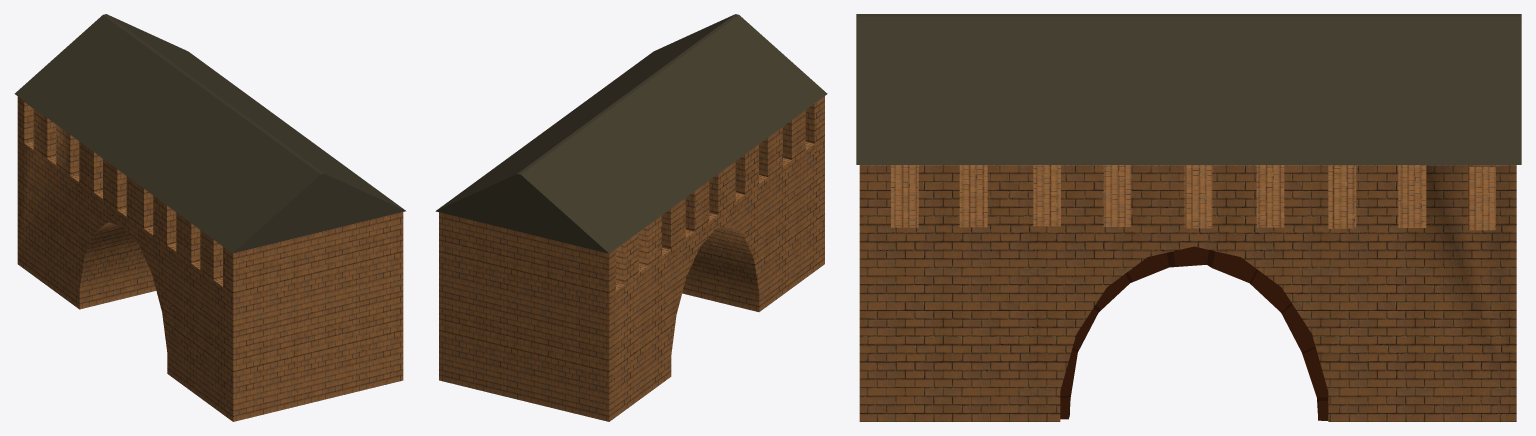
Rendered from arka.FBX.
The picture shows the model from 3 angles, left to right: view 1: azimuth 30°, elevation 25°; view 2: azimuth 150°, elevation 25°; view 3: azimuth 270°, elevation 25°; orthographic projection. The views are drawn at different scales.
Visible parts, largest first — view 1: Box017, Box015; view 2: Box017, Box015; view 3: Box017, Box015, Group001, Tube001.
Boxes of the visible parts, <box> form: Box017: <box>17,96,403,421</box>; Box015: <box>14,14,405,253</box>; Box017: <box>439,96,824,421</box>; Box015: <box>435,14,827,253</box>; Box017: <box>859,165,1516,421</box>; Box015: <box>856,14,1521,164</box>; Group001: <box>1060,246,1328,420</box>; Tube001: <box>1060,250,1328,418</box>.
Bounding box in the file's own units: 72.48 × 90.88 × 157.
4 materials, 1 textured.
